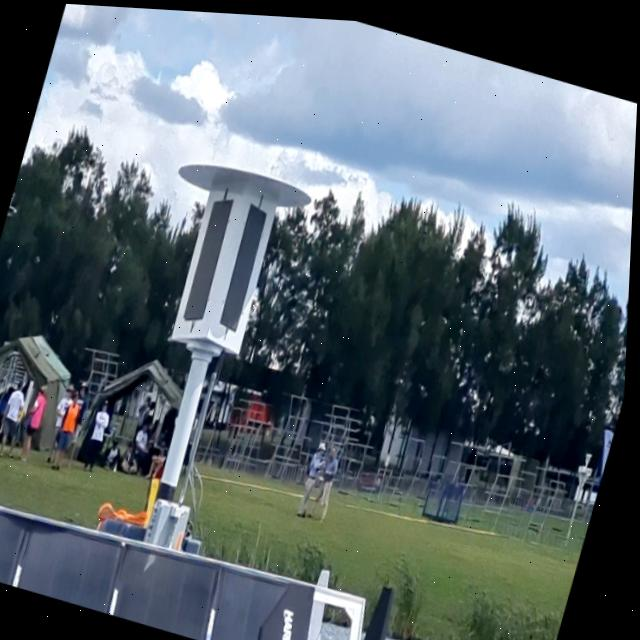led: (210, 189, 279, 343), (179, 187, 241, 327)
